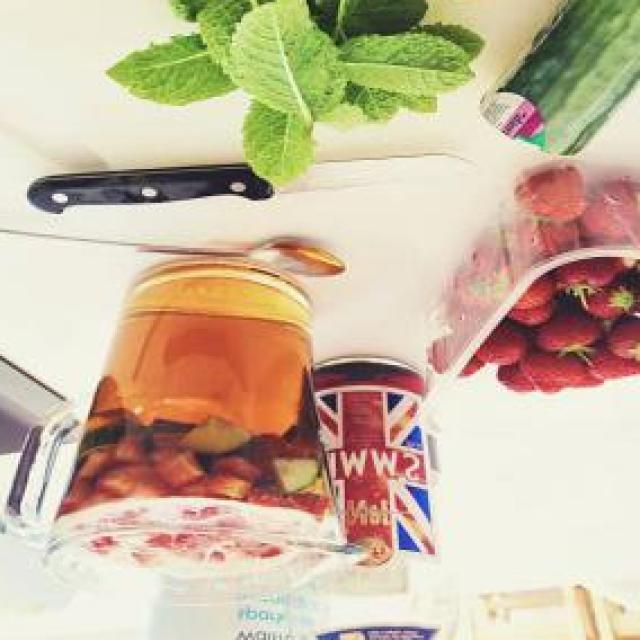knife: (25, 152, 475, 212)
